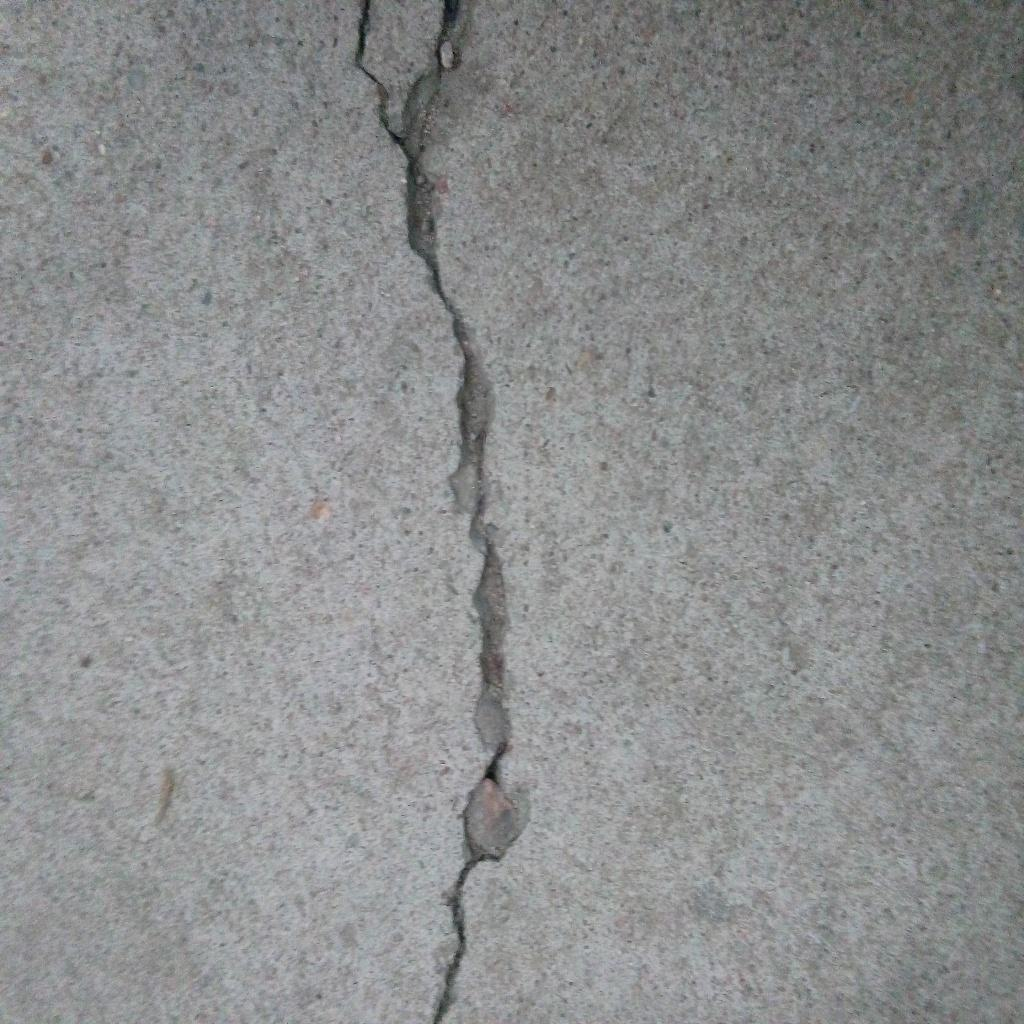Crack: (352, 1, 512, 1024)
